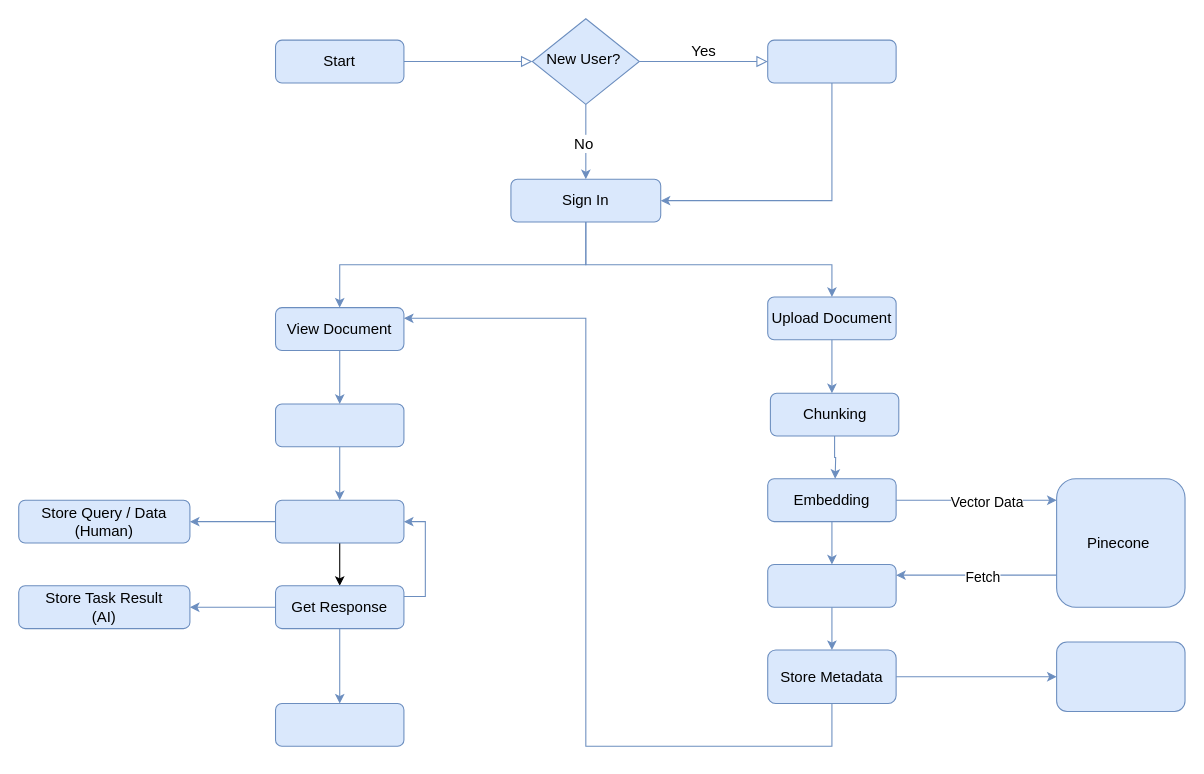
Image size: 1204x774. Some labels were removed from this diagram. Each missing label, with the centre of its shape:
Extract Data: pixel 831 585
Prompt Query: pixel 339 521
Sign out: pixel 339 724
Sign Up: pixel 831 61
SQLite: pixel 1120 676
Start Chat: pixel 339 425
